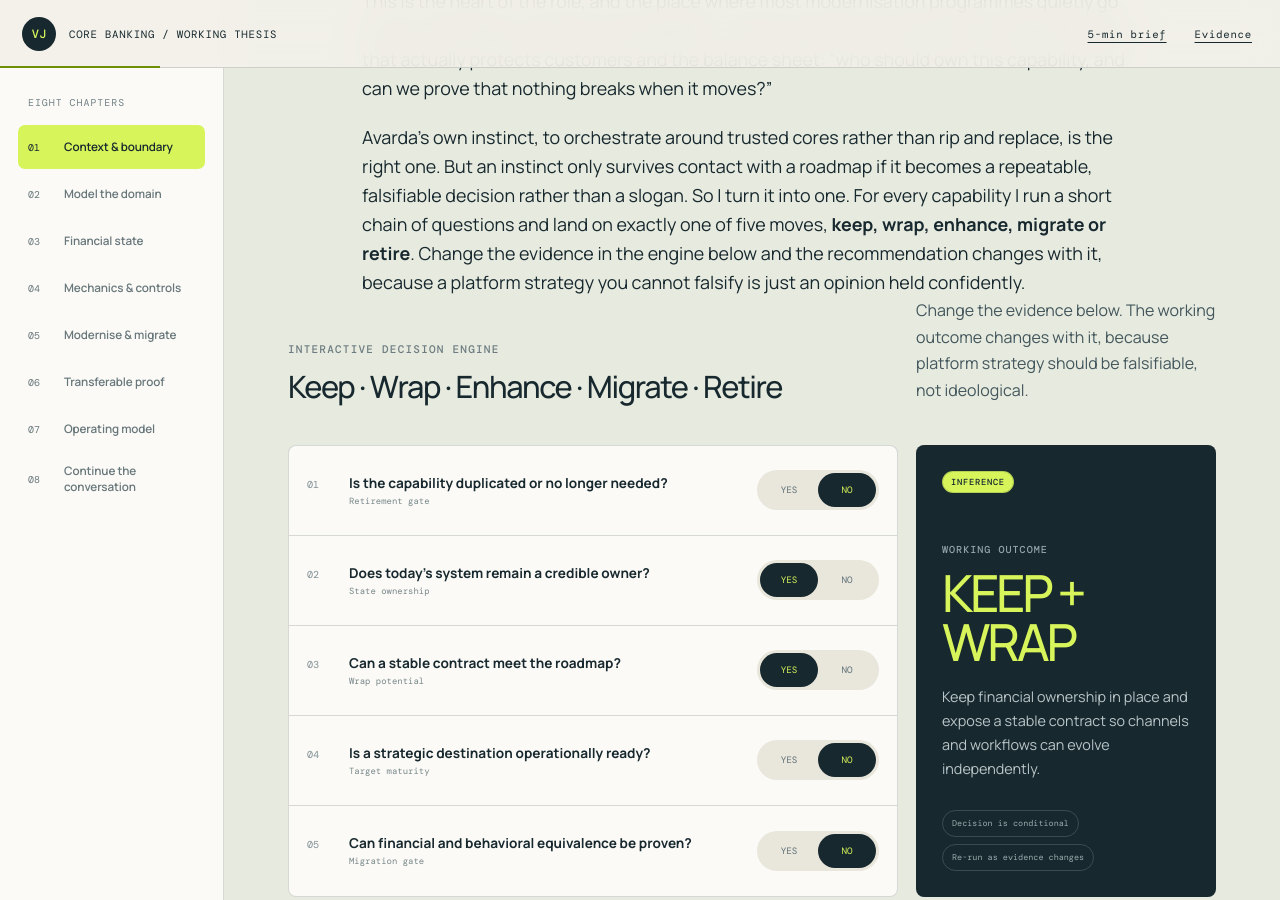
it: Avarda core-banking thesis › recomputes the modernisation outcome as evidence changes
(page scrolled)
expect the text "KEEP + WRAP" is shown: met, box [942,557,1083,676]
Click the button "yes" in the row of "Retirement gate".
click(789, 490)  # box [760,473,818,507]
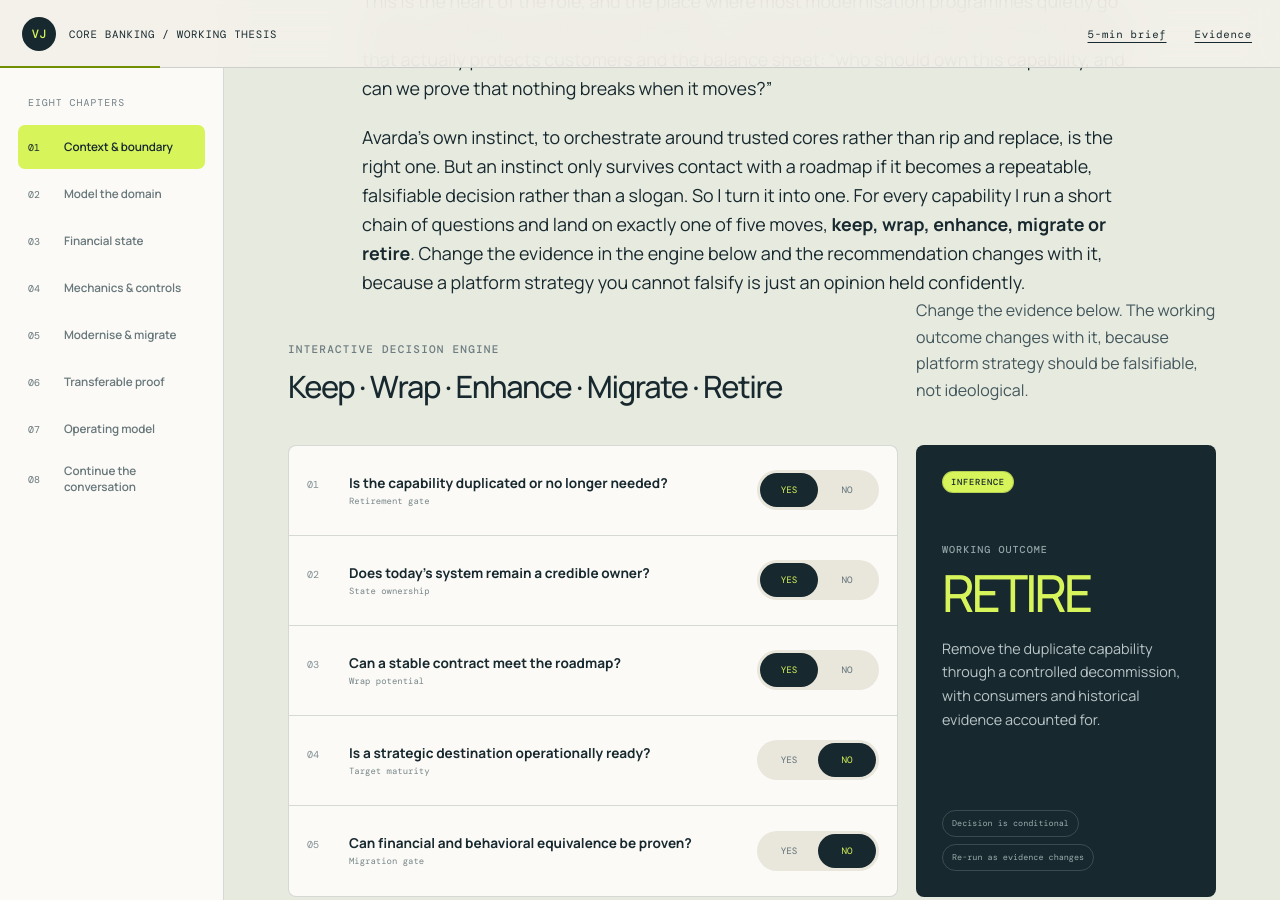
expect the text "RETIRE" is shown: met, box [942,557,1090,627]
